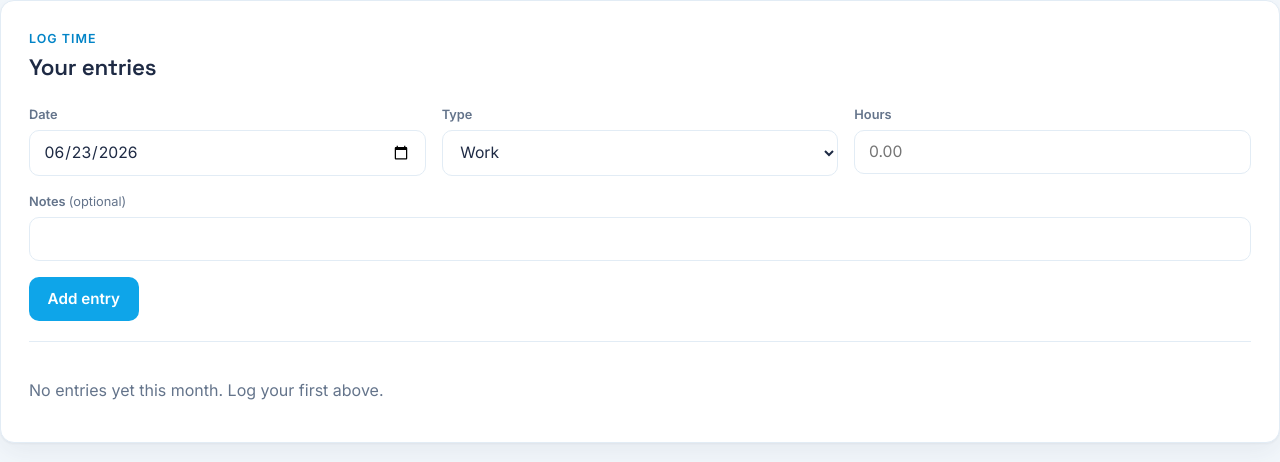
Test: TimeEntries › shows the hours field for work and hides it for day-off types
Check: the number field labelled "Hours" is shown, box [854, 130, 1251, 174]
Select "Vacation" in the dropdown labelled "Type" at (640, 153), box [442, 130, 838, 176]
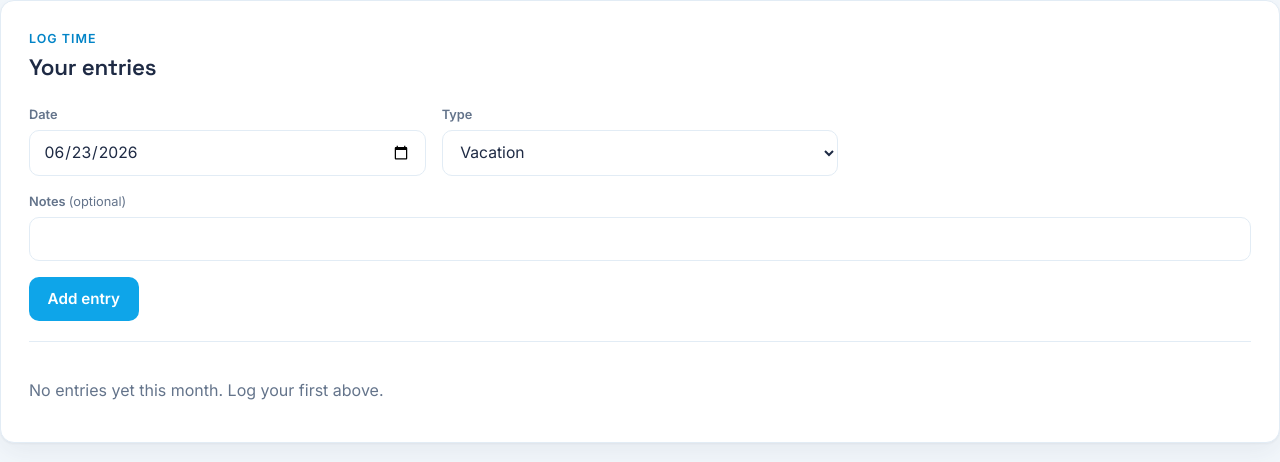
Check: the label labelled "Hours" is gone
